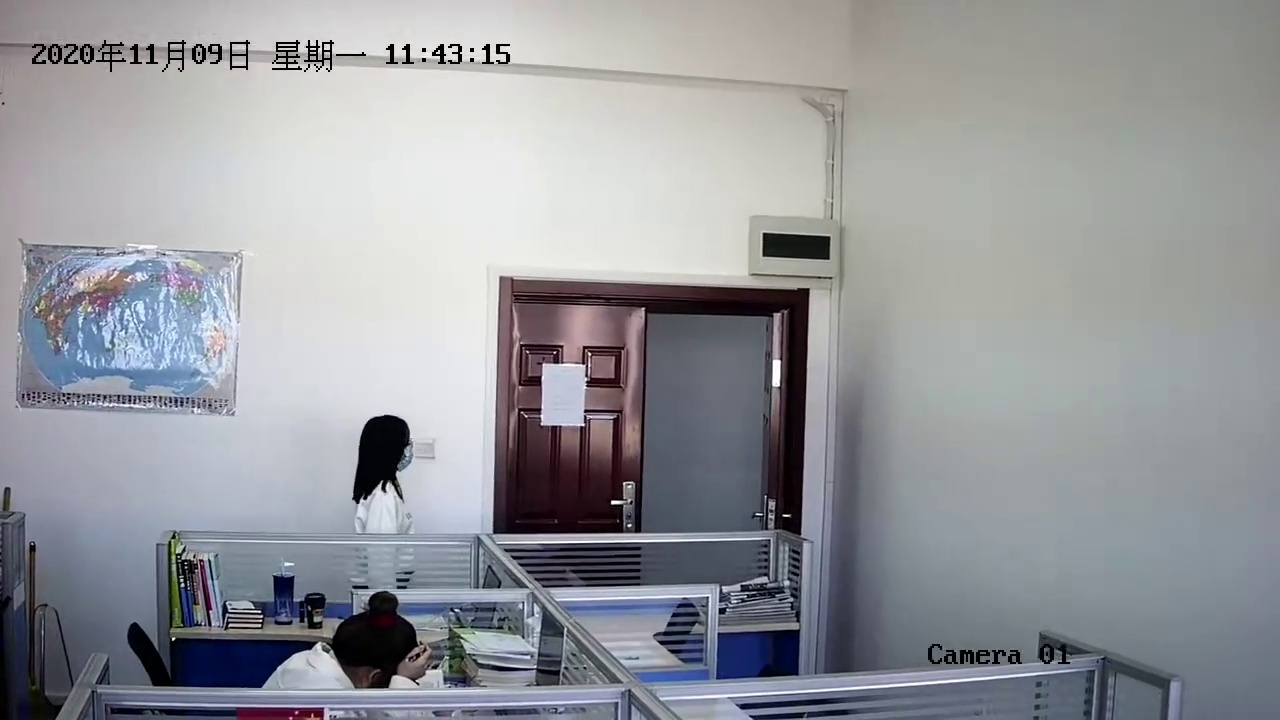mask: (359, 418, 416, 485)
